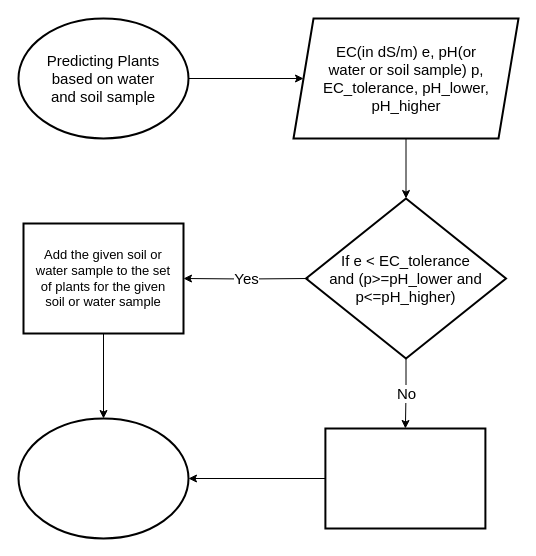
The diagram is 536 pixels wide and 556 high, and some of its shapes have lost their labels. Each missing label, with the centre of its shape:
Reject that plant for the given soil or water sample: (405,478)
STOP: (103,478)
